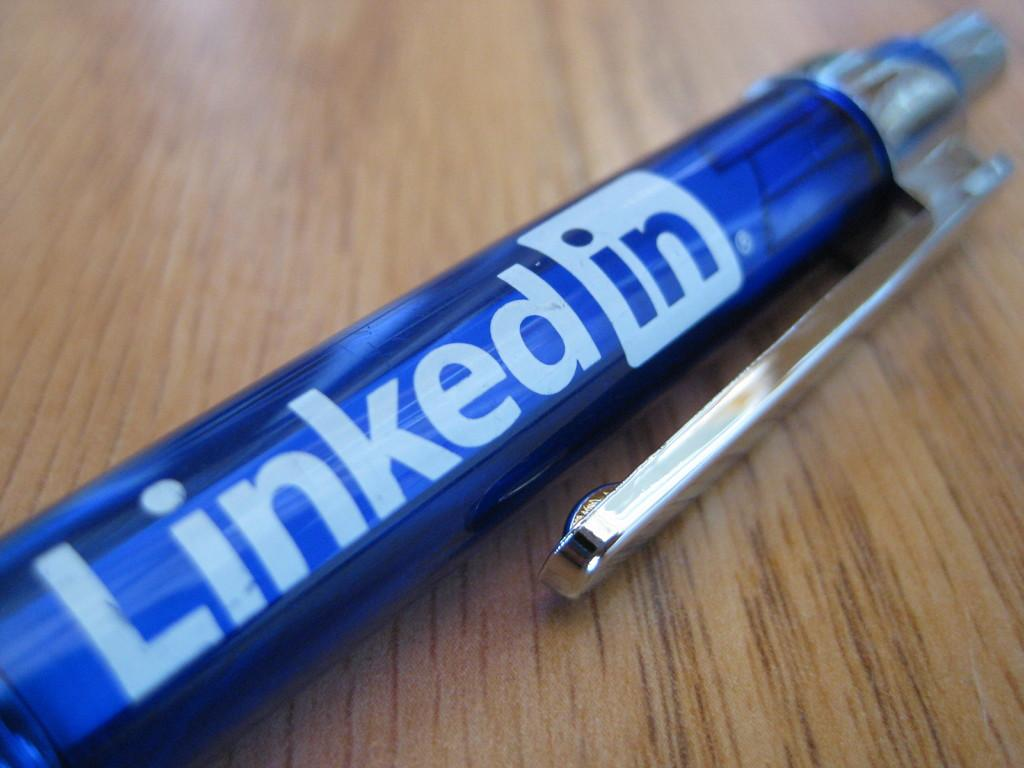pen: (0, 2, 1020, 767)
